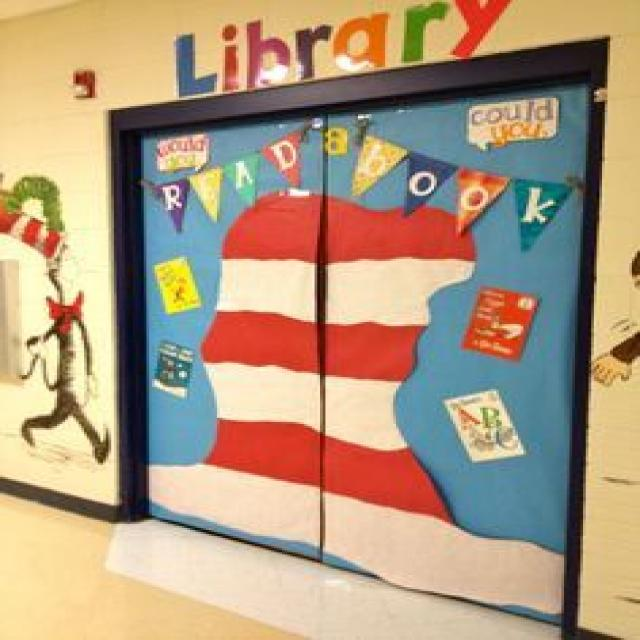door: (107, 39, 609, 638)
